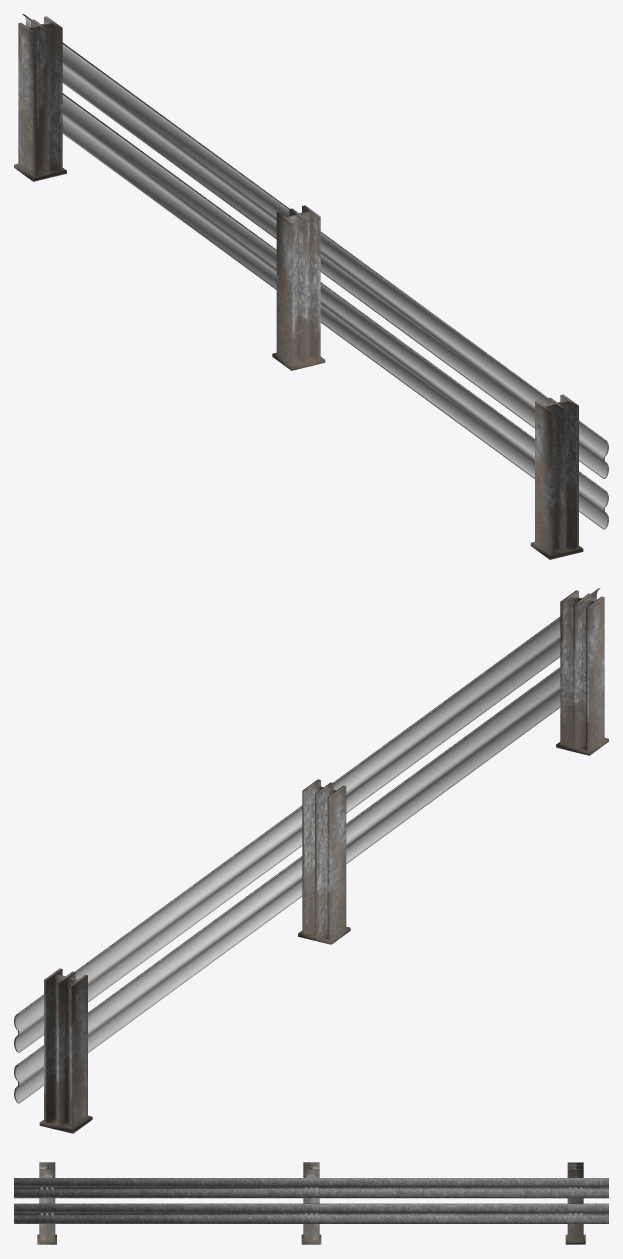
File: Bankina.obj
The picture shows the model from 3 angles, top to bottom: view 1: azimuth 30°, elevation 25°; view 2: azimuth 150°, elevation 25°; view 3: azimuth 270°, elevation 25°; orthographic projection. The views are drawn at different scales.
Parts seen in each view (by area): view 1: Ograda, Stubovi; view 2: Ograda, Stubovi; view 3: Ograda, Stubovi, Srafovi.
Part boxes in pixels (x1,y1,x2,y2): Ograda: (22,14,608,529); Stubovi: (14,16,583,559); Ograda: (14,588,600,1103); Stubovi: (39,590,608,1133); Ograda: (14,1178,608,1223); Stubovi: (37,1162,585,1244); Srafovi: (40,1187,582,1215).
Bounding box in the file's own units: 0.3248 × 1.24 × 9.01.
